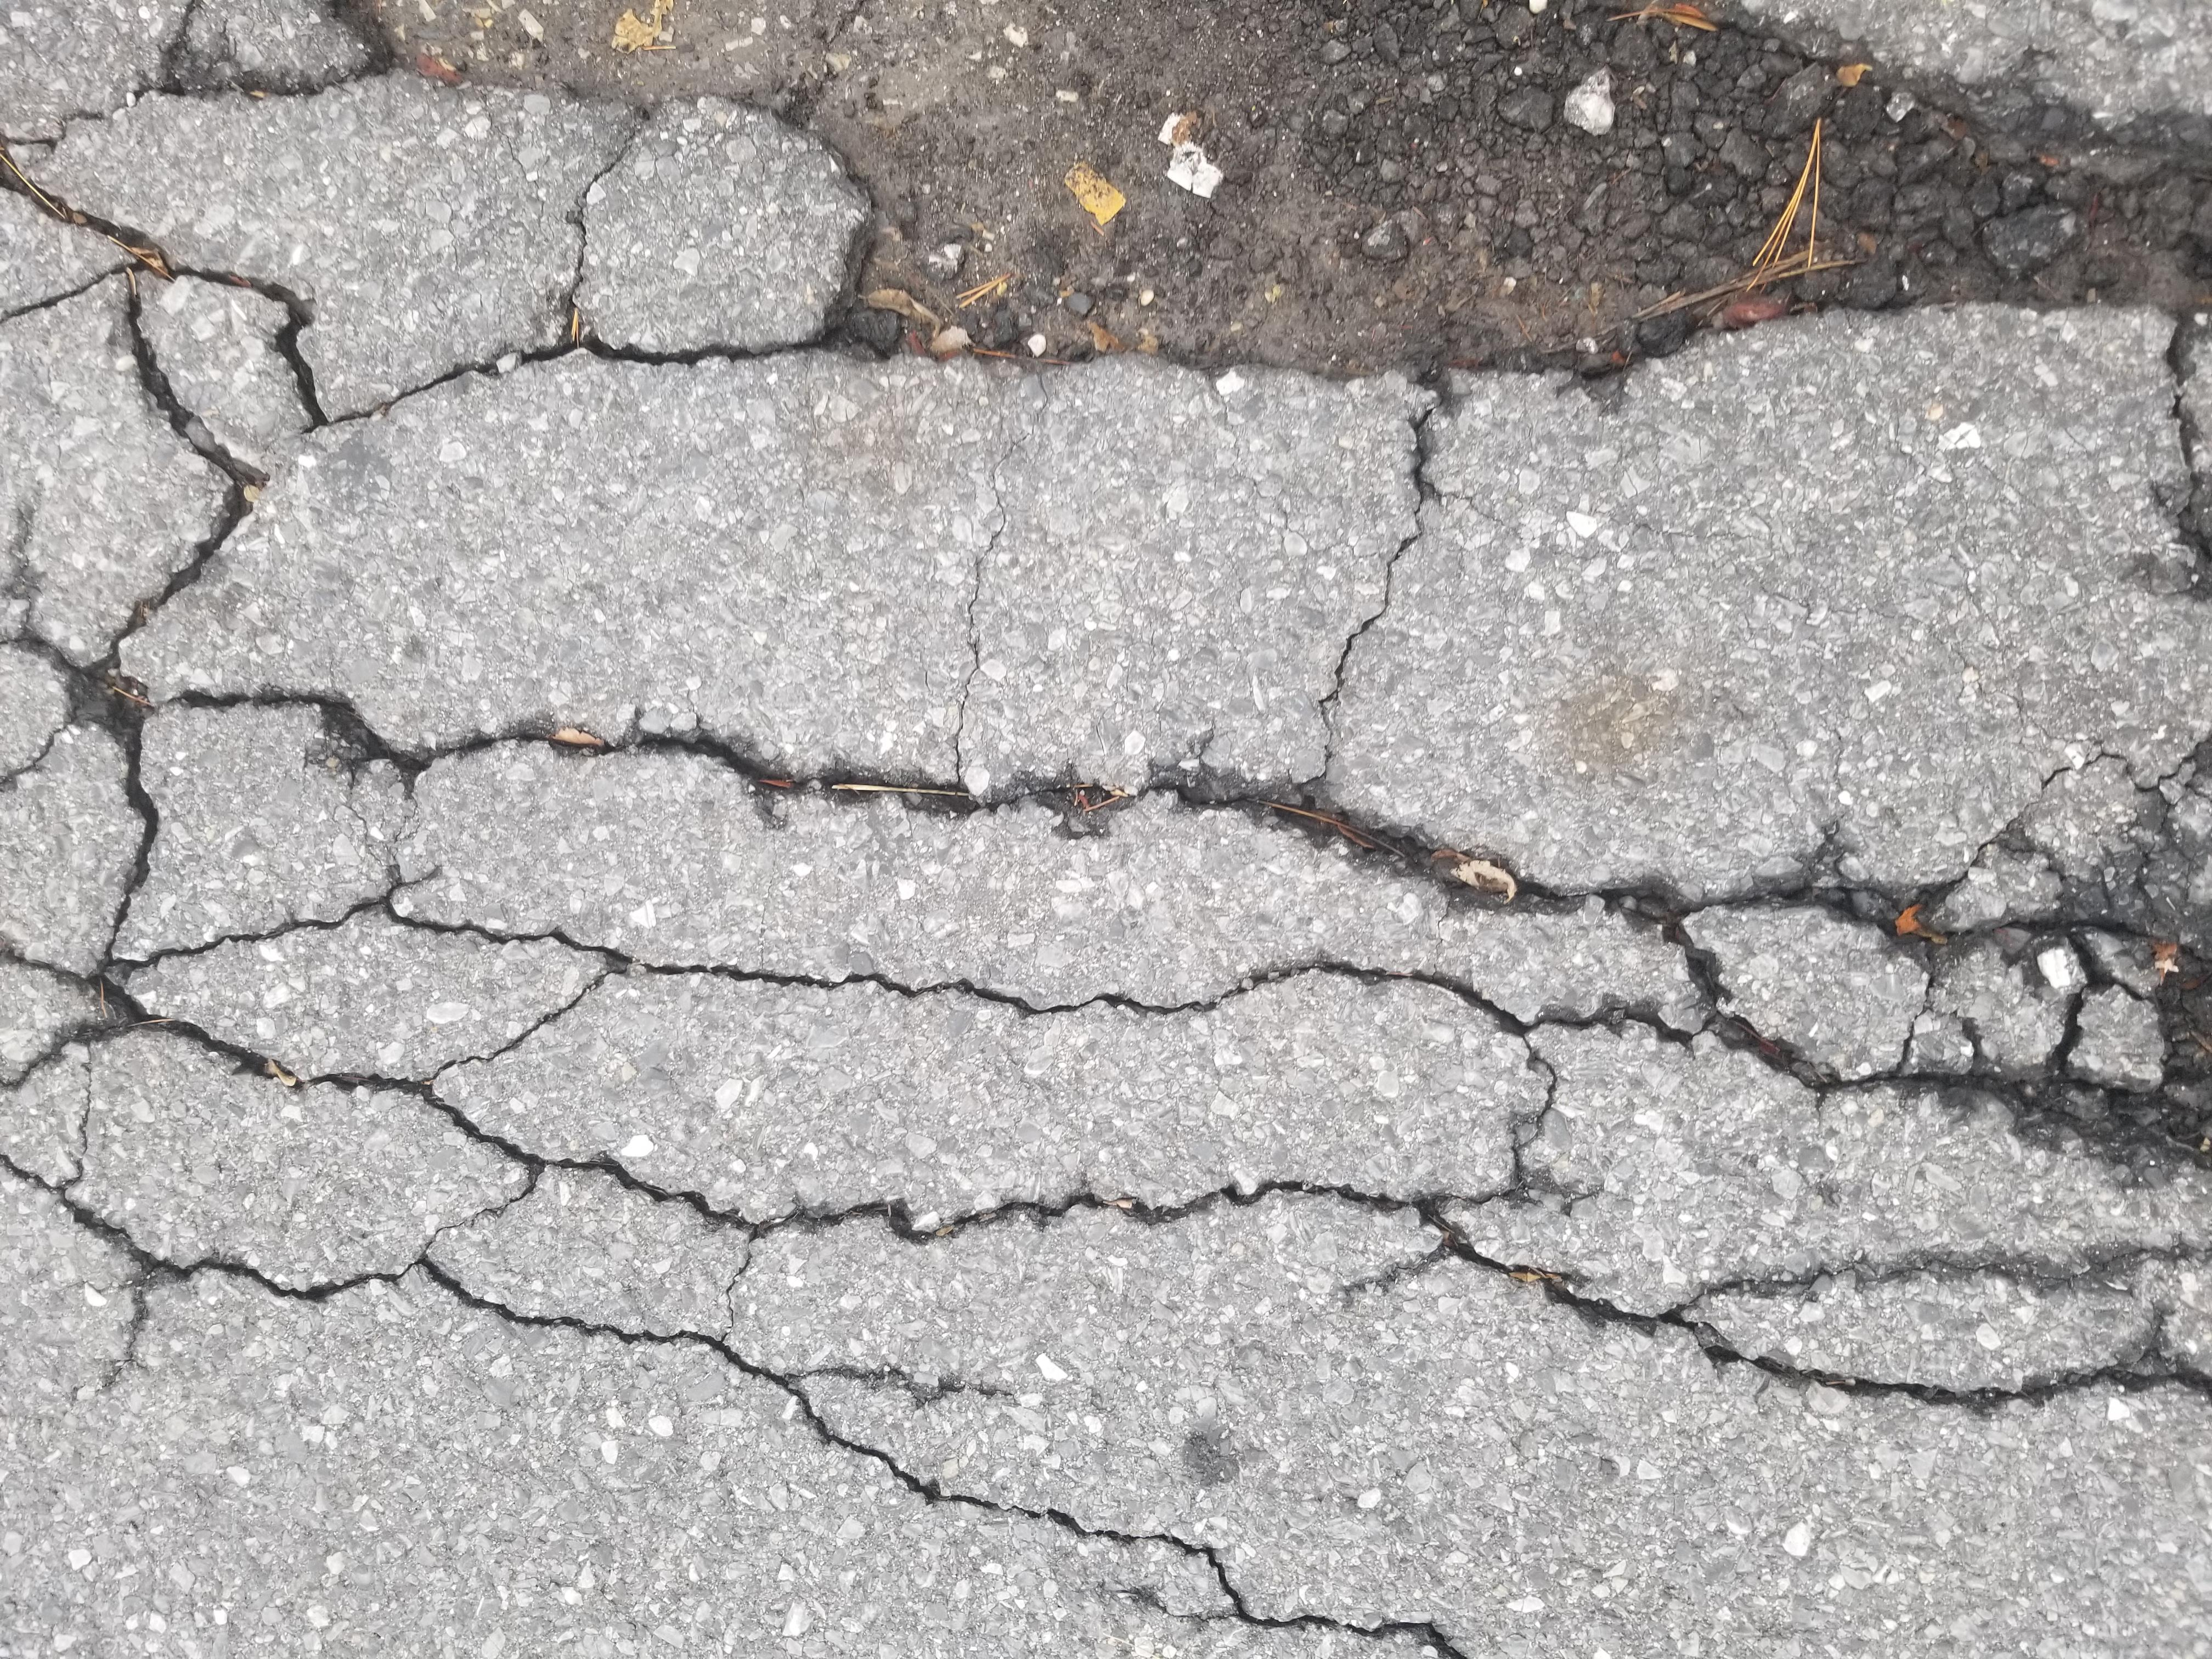alligator-crack: (0, 584, 1550, 1659), (7, 0, 1961, 565)
pothole: (1653, 601, 2212, 1654), (2012, 247, 2212, 601)
